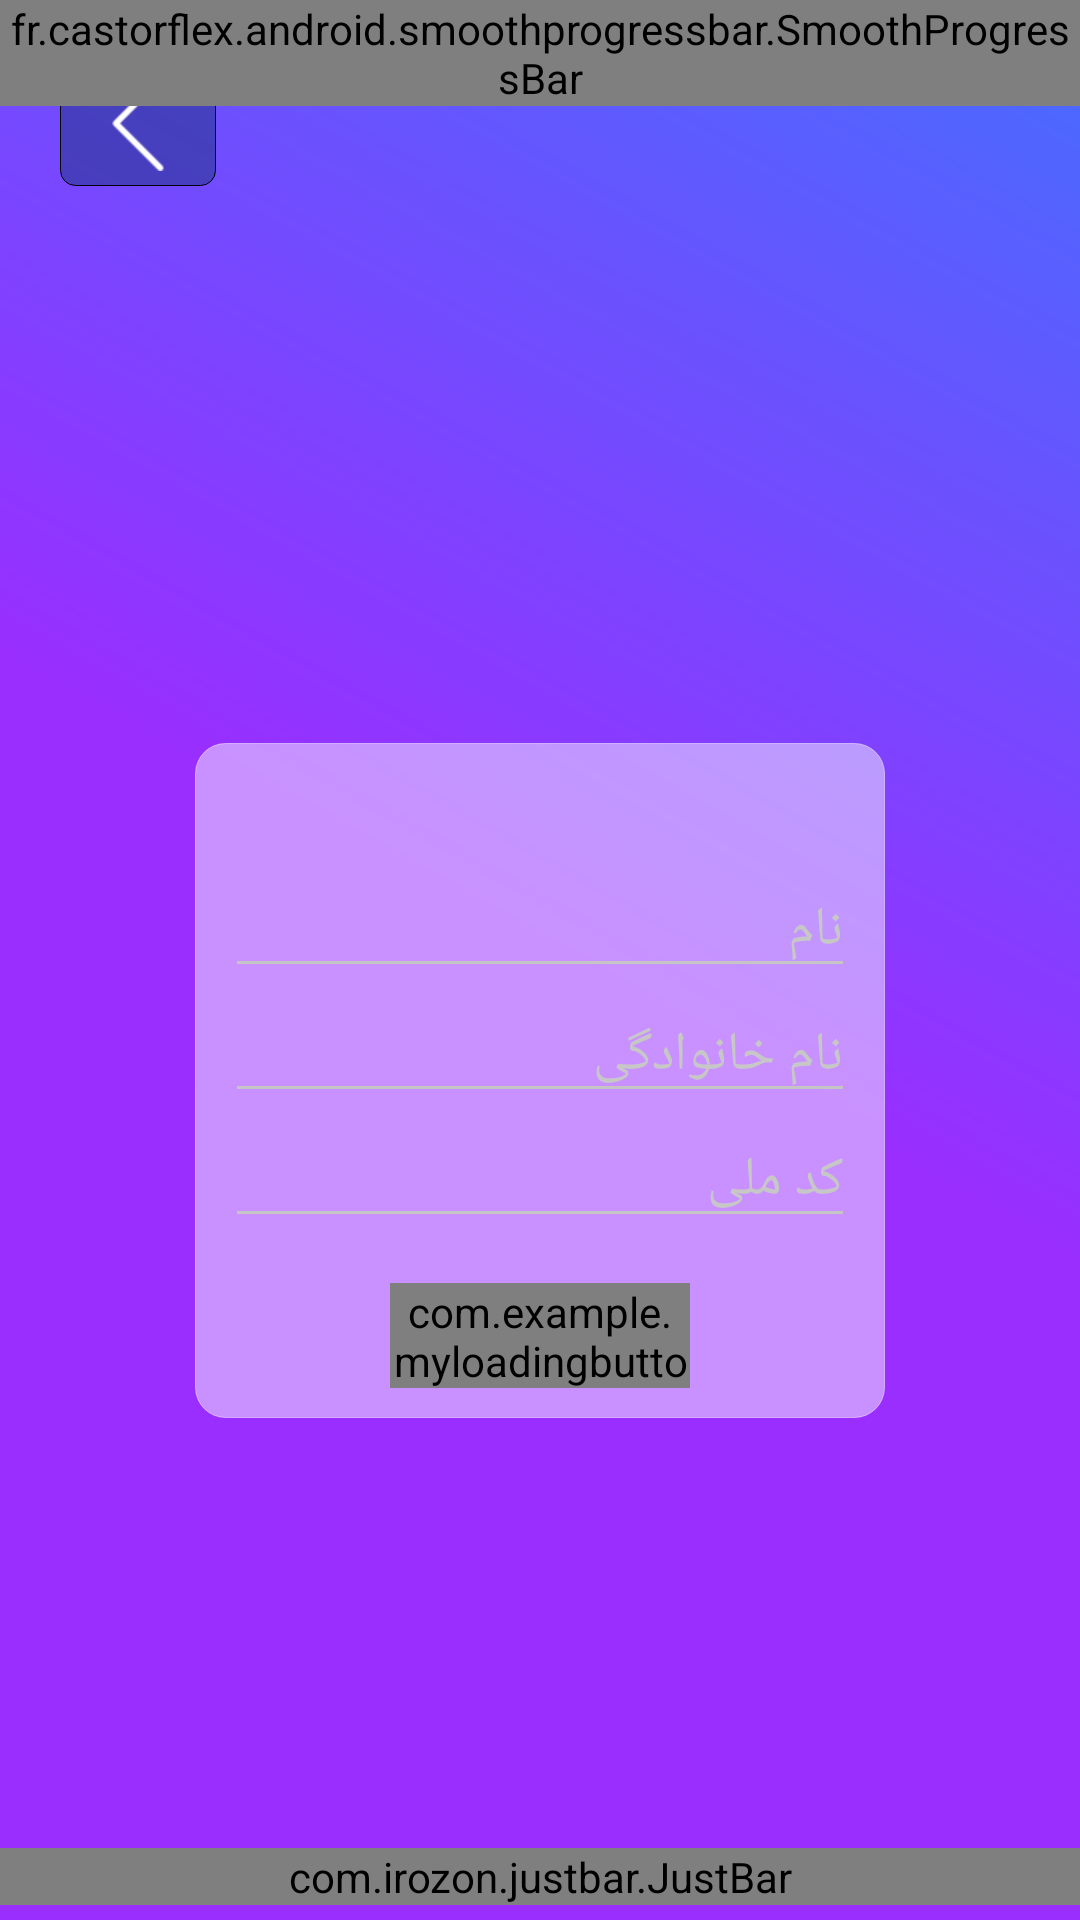

Where to tap for icons on this 1080 × 1920 app screen, as [x,y]:
backicon: [138,123]
